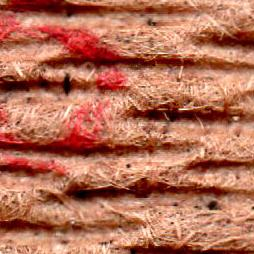egg: (63, 73, 70, 94)
